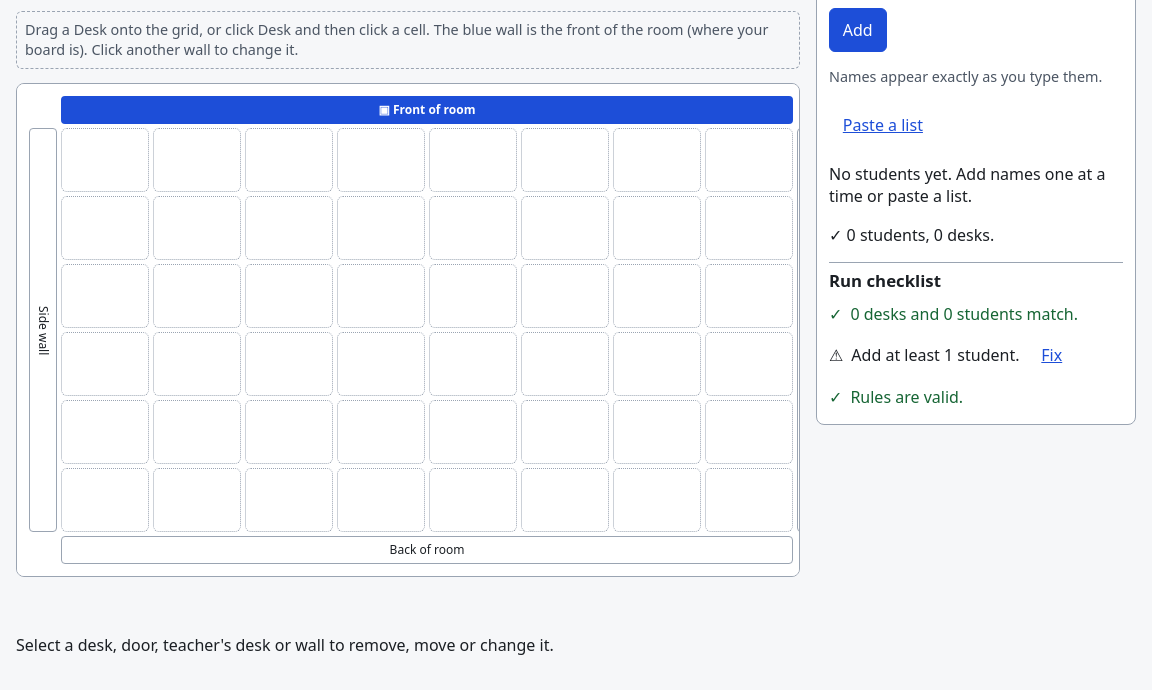
it: Plan mode › makes a clicked wall the front wall from the selection strip
This screenshot has width=1152, height=690.
(page scrolled)
Click the cell named "Bottom wall, below column 3, Back of room" at (289, 550), box [245,536,333,564]
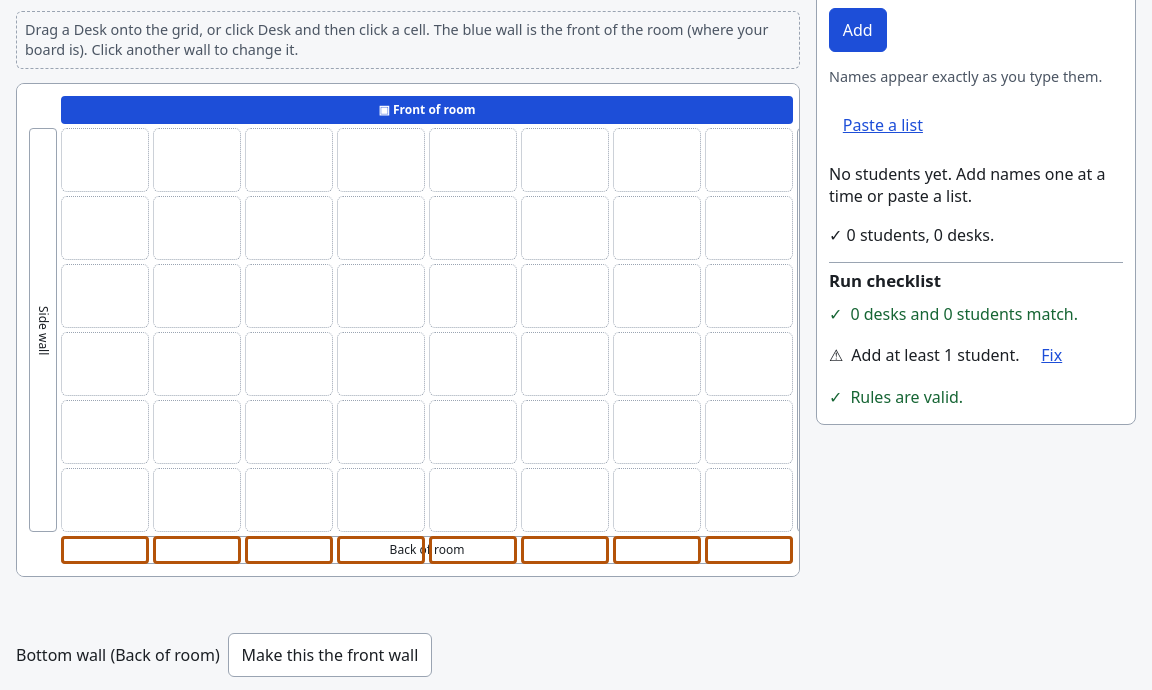
Expected: the text "Bottom wall (Back of room)" is shown, [16,644,220,667]
Click the button "Make this the front wall" at (330, 656), box [228,634,432,678]
(page scrolled)
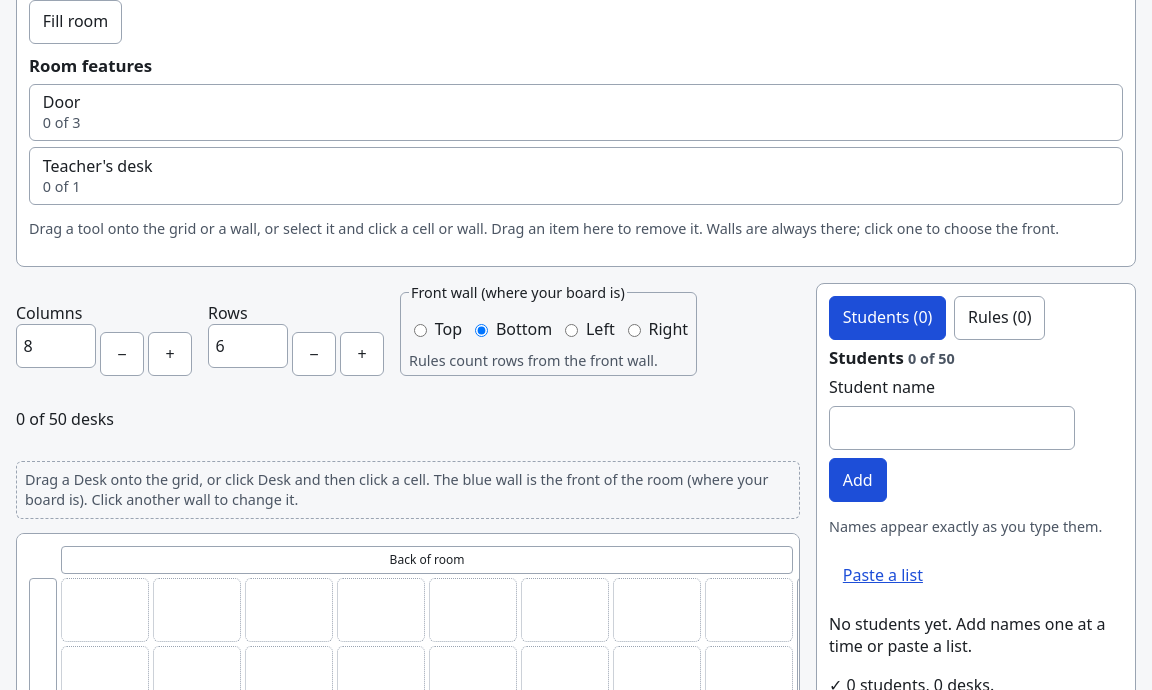
Expected: the radio button labelled "Bottom" is checked, [475,324,488,337]
Expected: the button "Make this the front wall" is gone
